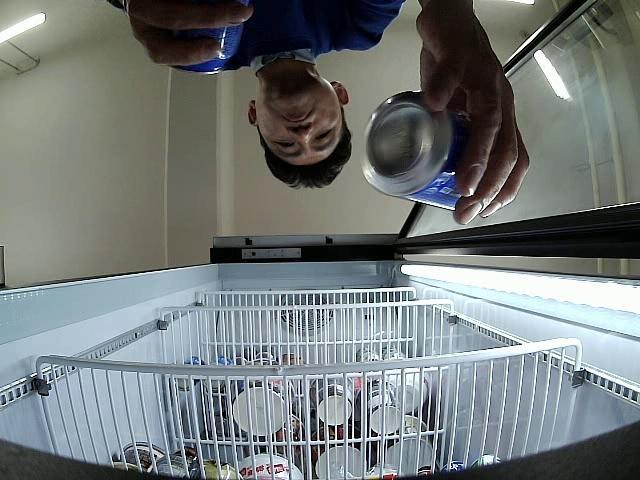13_pocariSweat: (362, 91, 468, 211), (157, 0, 251, 78)
